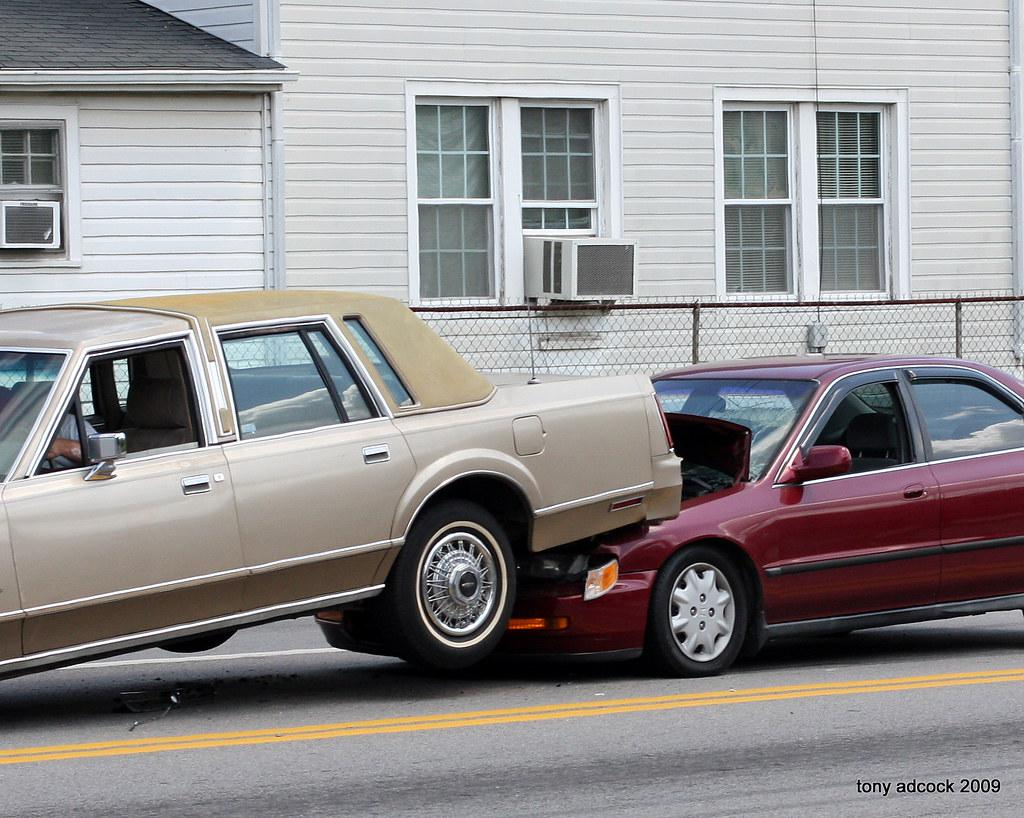fender-dent: (617, 524, 693, 600)
